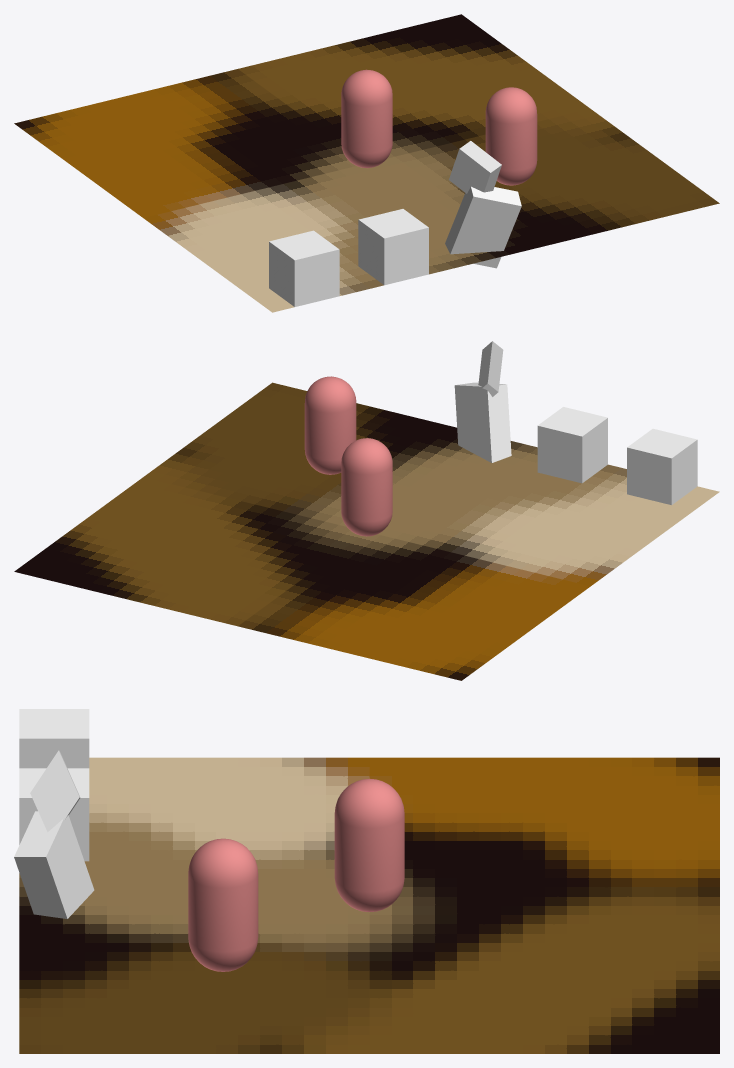
The model's file is unity_exported_77b.fbx.
The picture shows the model from 3 angles, top to bottom: view 1: azimuth 30°, elevation 25°; view 2: azimuth 150°, elevation 25°; view 3: azimuth 270°, elevation 25°; orthographic projection. The views are drawn at different scales.
Parts seen in each view (by area): view 1: Plane, Capsule, CubeMirror, CubeAnim, Capsule_Anim_Xform, CubePar, CubeCh; view 2: Plane, Capsule, CubeAnim, CubeMirror, Capsule_Anim_Xform, CubePar, CubeCh; view 3: Plane, Capsule, Capsule_Anim_Xform, CubePar, CubeAnim, CubeMirror, CubeCh.
Boxes of the visible parts, x1,y1,x2,y2 form: Plane: (14, 14, 719, 312); Capsule: (341, 69, 392, 168); CubeMirror: (358, 209, 428, 285); CubeAnim: (269, 230, 339, 306); Capsule_Anim_Xform: (485, 87, 537, 185); CubePar: (445, 186, 521, 268); CubeCh: (449, 141, 501, 193); Plane: (14, 382, 719, 680); Capsule: (341, 438, 392, 536); CubeAnim: (627, 428, 697, 505); CubeMirror: (537, 407, 607, 483); Capsule_Anim_Xform: (304, 376, 356, 474); CubePar: (454, 382, 511, 462); CubeCh: (478, 341, 503, 396); Plane: (19, 757, 719, 1053); Capsule: (334, 778, 404, 912); Capsule_Anim_Xform: (188, 838, 258, 971); CubePar: (14, 811, 94, 918); CubeAnim: (19, 709, 89, 768); CubeMirror: (19, 768, 89, 861); CubeCh: (30, 750, 80, 832).
Bounding box in the file's own units: 1000 × 273 × 1008.
3 materials, 1 textured.
